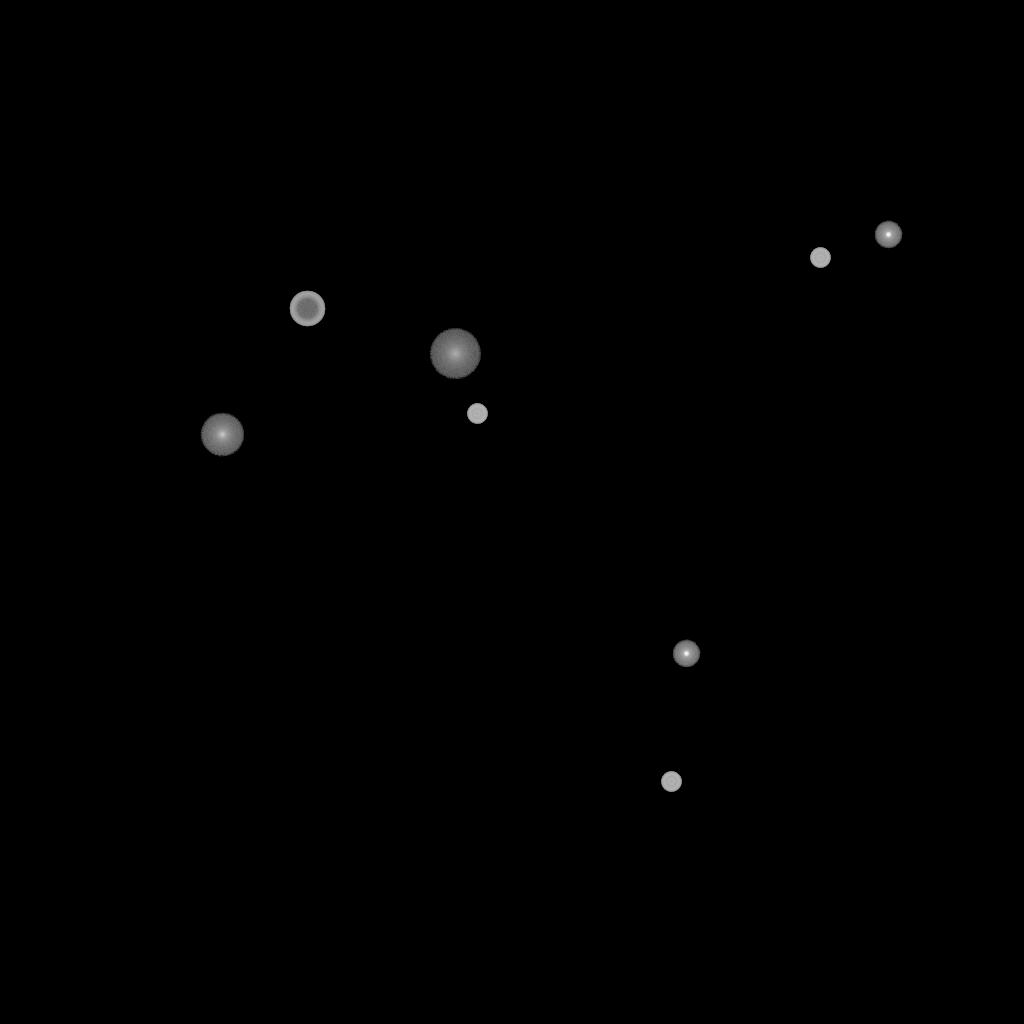depth:-10: (874, 221, 902, 249), (672, 640, 700, 668)
depth:-40: (467, 404, 487, 424), (661, 772, 681, 792), (810, 248, 830, 268)
depth:-60: (289, 291, 325, 327)
depth:10: (200, 413, 244, 457)
depth:20: (429, 329, 481, 379)
